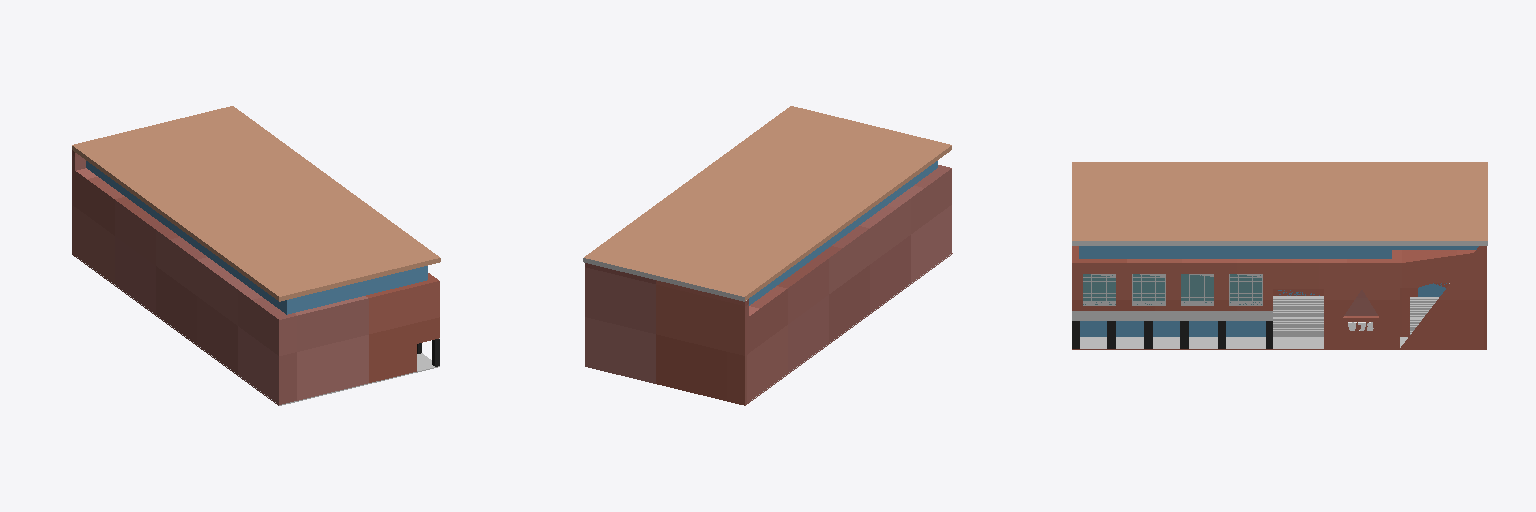
3 renders of one model, left to right at view 1: azimuth 30°, elevation 25°; view 2: azimuth 150°, elevation 25°; view 3: azimuth 270°, elevation 25°, orthographic.
Visible parts, largest first — view 1: Mesh4 Model; view 2: Mesh4 Model; view 3: Mesh4 Model.
Boxes of the visible parts, x1=… form: Mesh4 Model: x1=72, y1=106, x2=440, y2=405; Mesh4 Model: x1=583, y1=106, x2=952, y2=405; Mesh4 Model: x1=1072, y1=162, x2=1487, y2=349.
Size of the model in its own units: 3396 by 2193 by 7564.
8 materials, 2 textured.